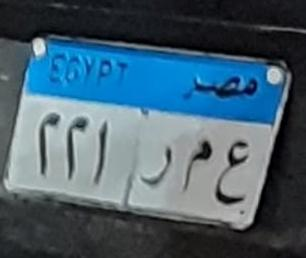1: (88, 110, 126, 192)
2: (54, 102, 100, 182), (32, 98, 62, 178)
ر: (134, 121, 182, 197)
ع: (204, 127, 265, 203)
م: (174, 136, 214, 196)
